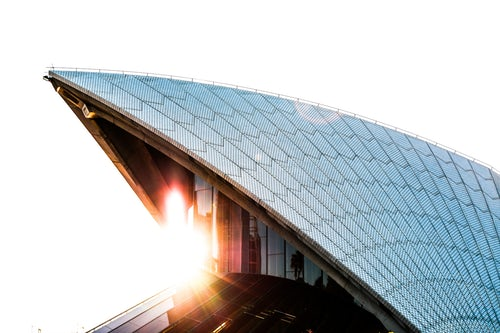opera house: (30, 54, 499, 332)
